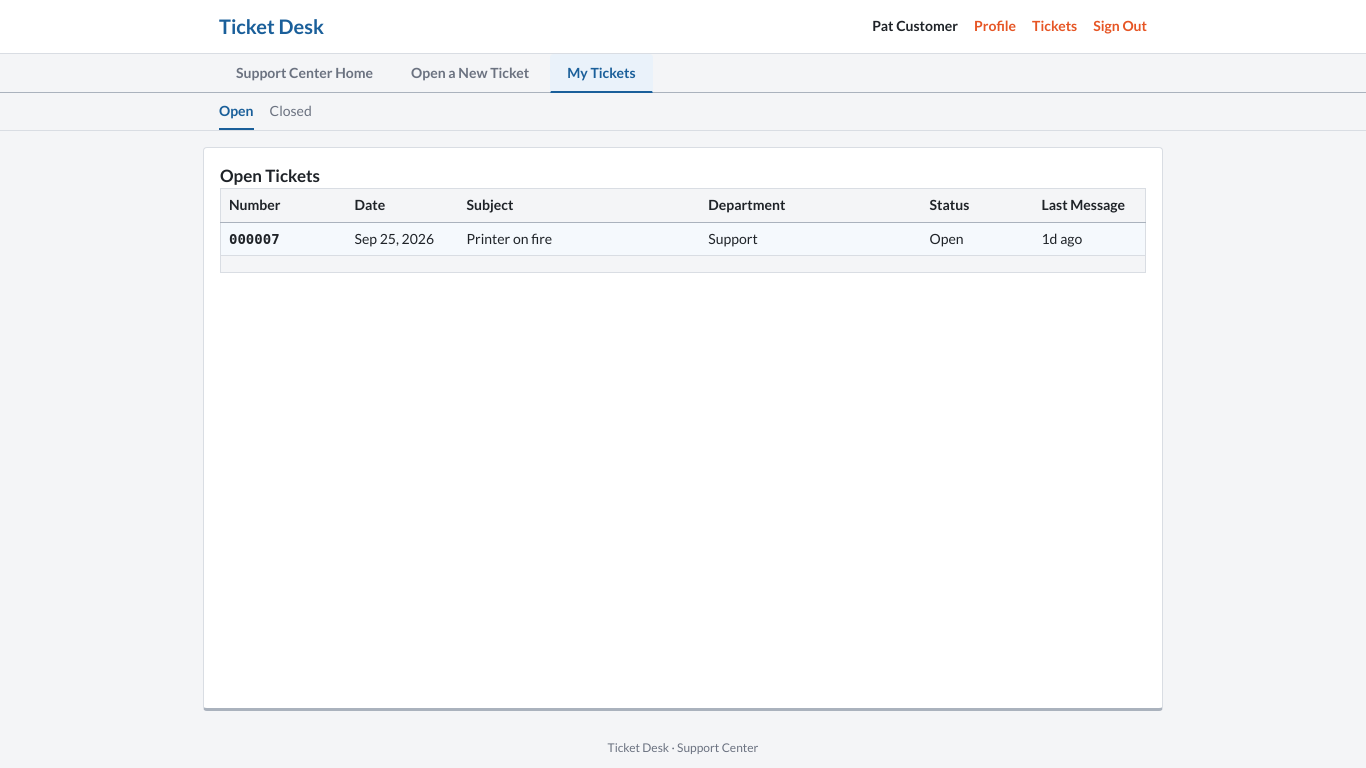
Scenario: switches to closed tickets from the sub-nav and shows the empty state
Expected: the link "000007" is shown, [229,230,280,246]
Click the link "Closed".
click(291, 111)  # box [270,102,312,119]
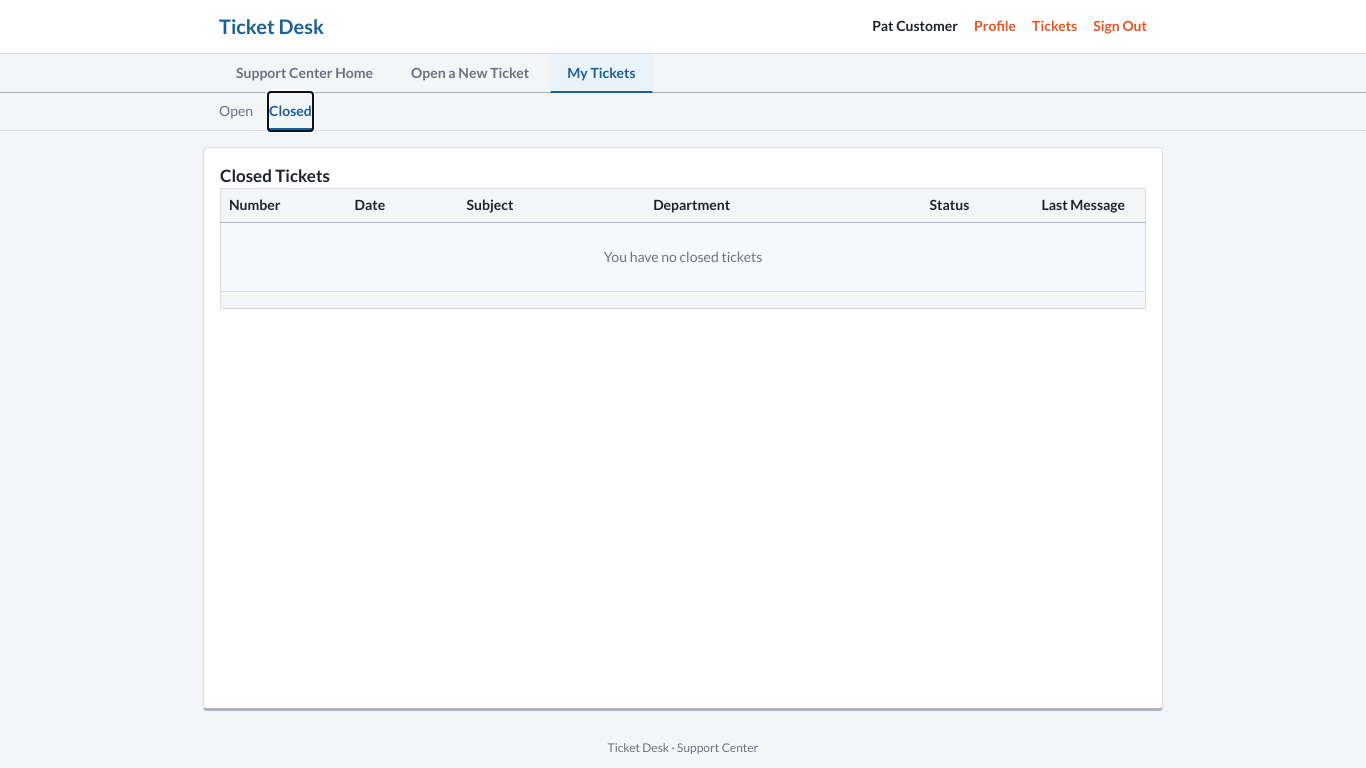
Expected: the text "You have no closed tickets" is shown, [220,222,1146,291]
